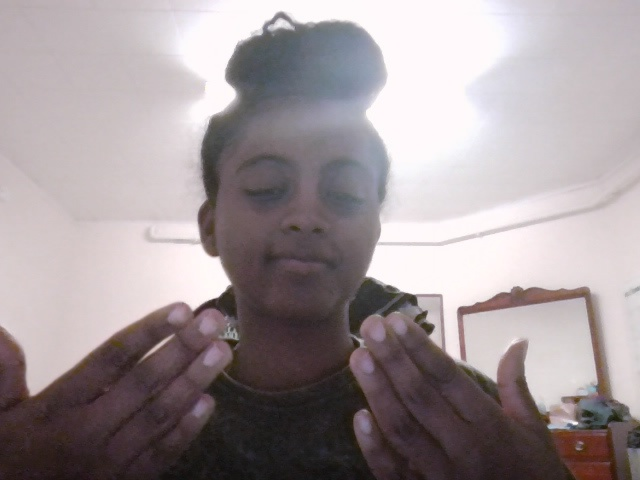Thanks: (1, 274, 574, 480)
